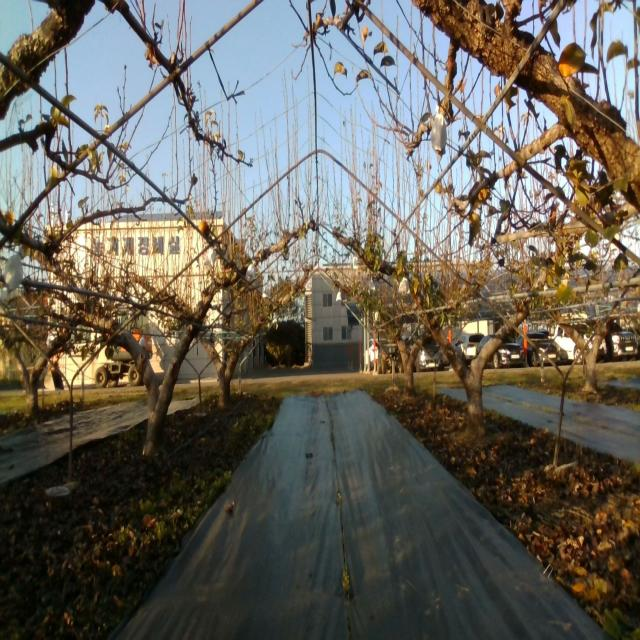pearbags: (4, 245, 25, 298), (430, 105, 447, 162), (204, 245, 217, 269), (398, 277, 411, 295)
